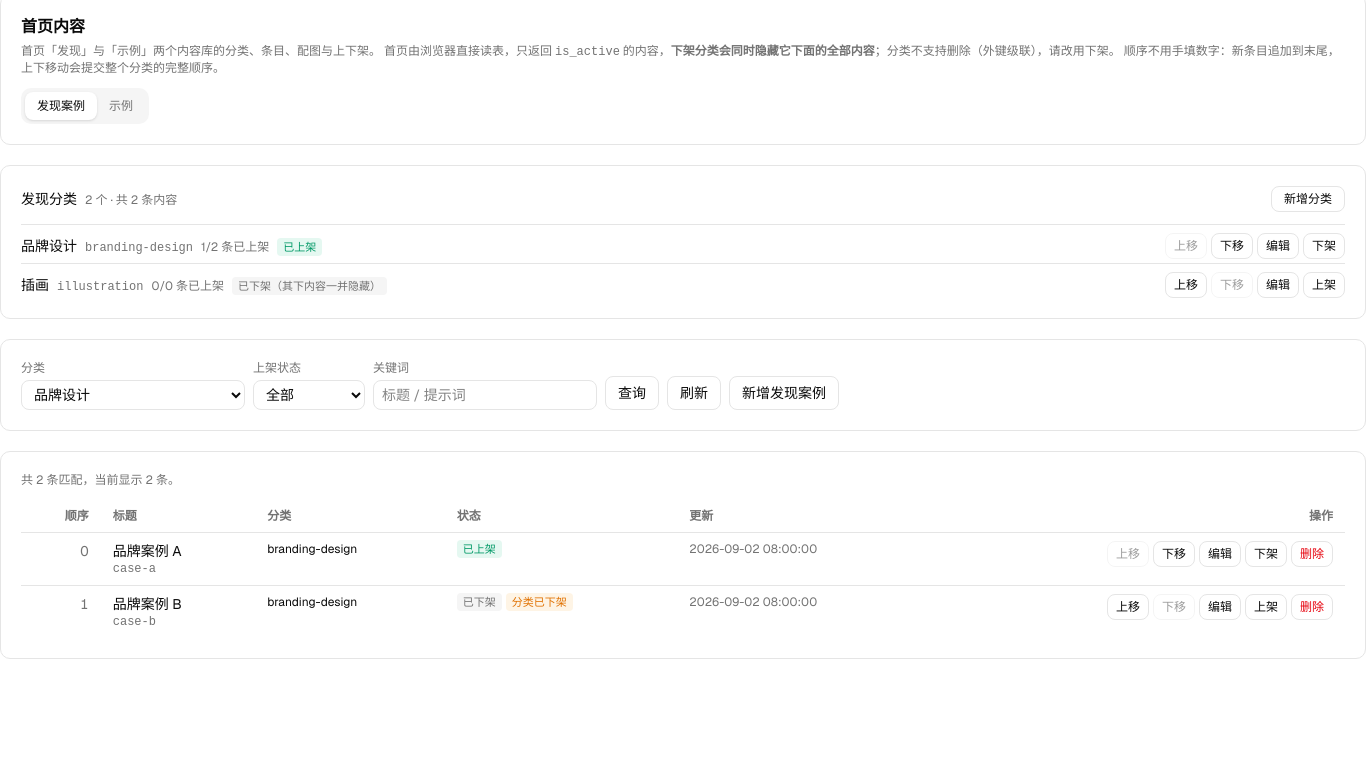
admin home content section › saves an edited case with every field and a reason
The image size is (1366, 762).
expect the table with test id "admin-home-table" is shown: met, box [21,500,1345,638]
Click the button "编辑" in the row of "品牌案例 A". click: coordinates (1220, 554)
box: [1199,541,1241,567]
(page scrolled)
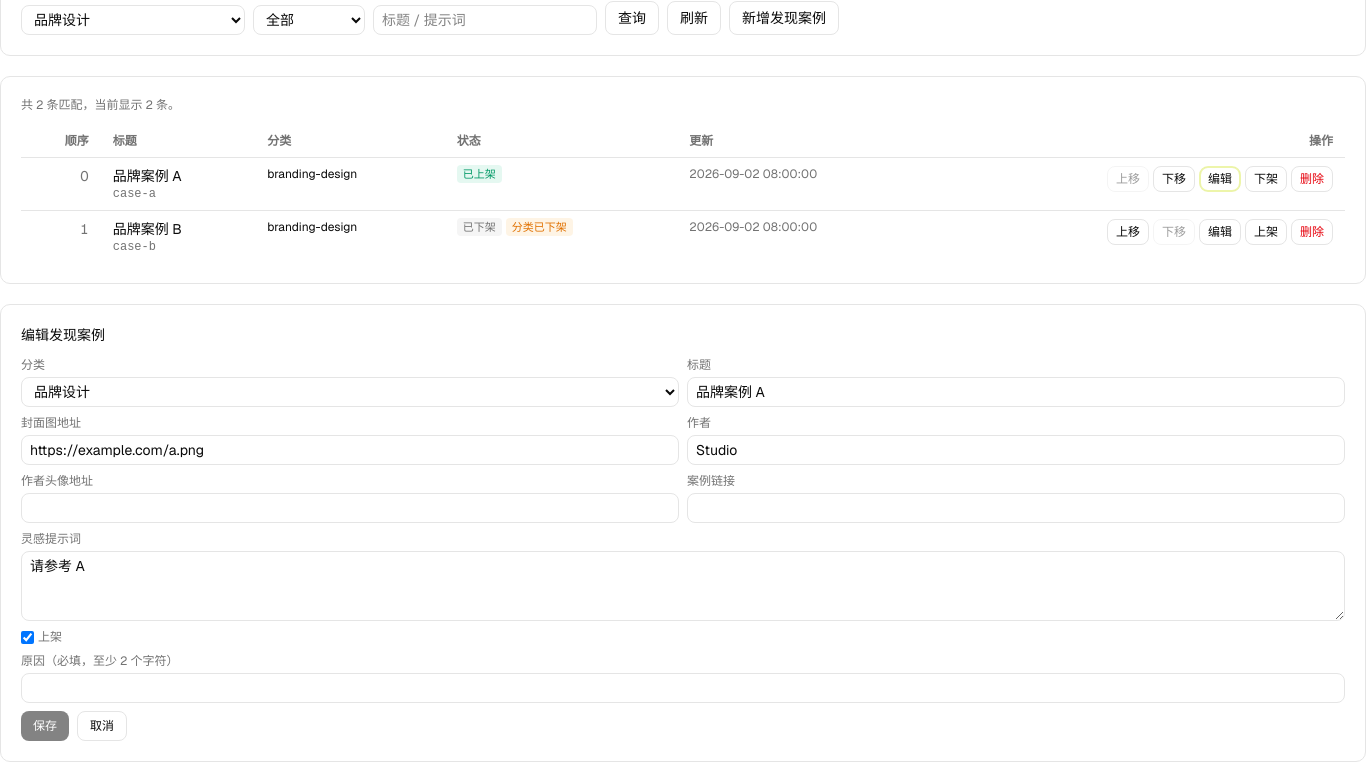
expect the field named "表单标题" holds "品牌案例 A": met
Replace the text in the field named "表单标题" with "品牌案例 A（改）". click: coordinates (1016, 392)
box: [687,377,1345,407]
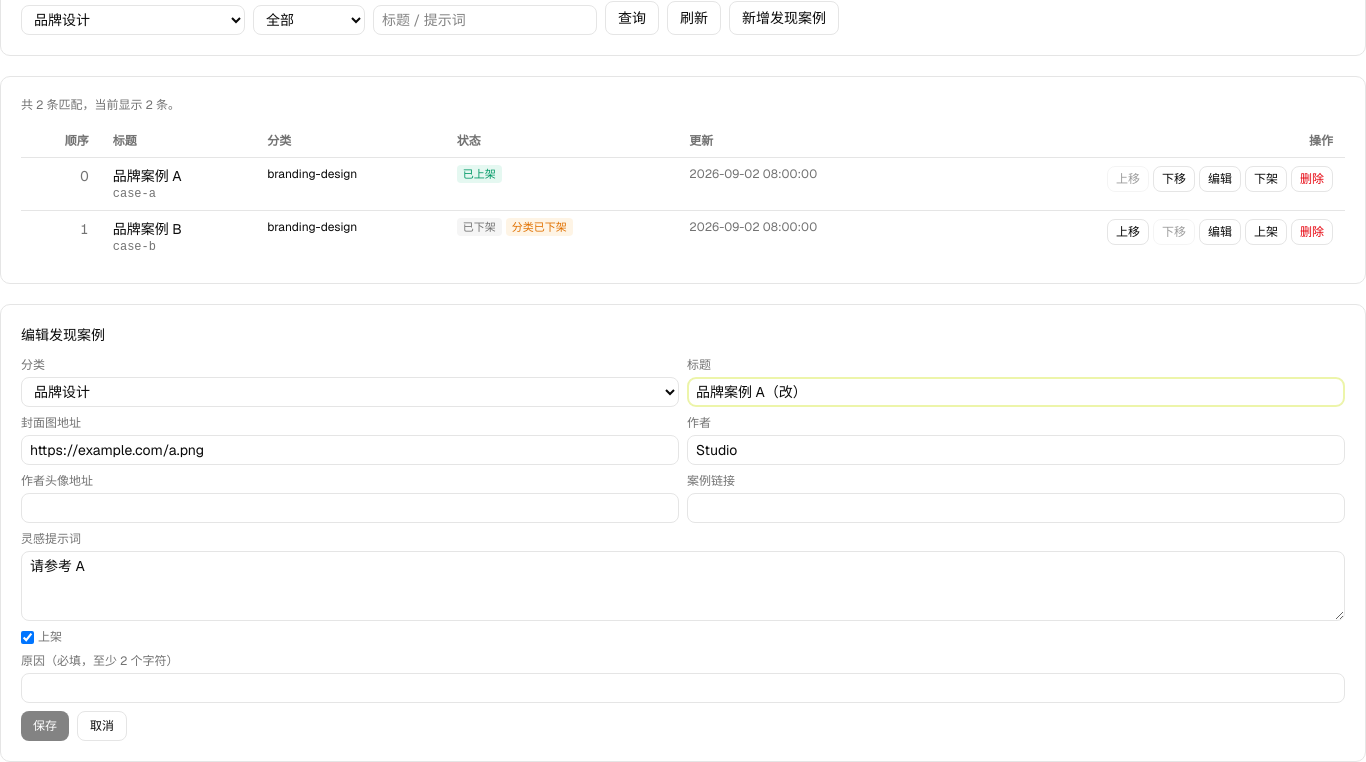
Type "标题与实际不符" into the field named "表单原因". click: coordinates (683, 688)
box: [21,673,1345,703]
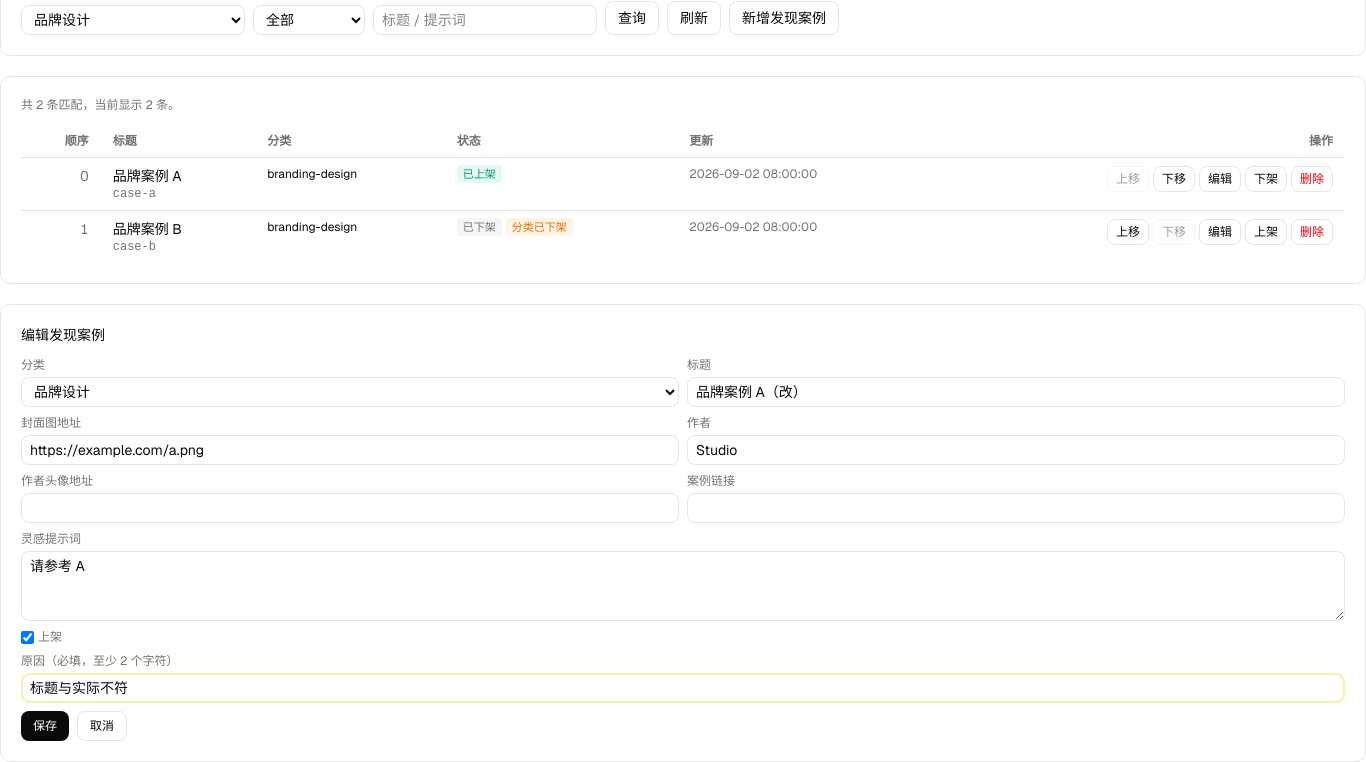
Click the button "保存". click: coordinates (45, 726)
box: [21,711,69,741]
(page scrolled)
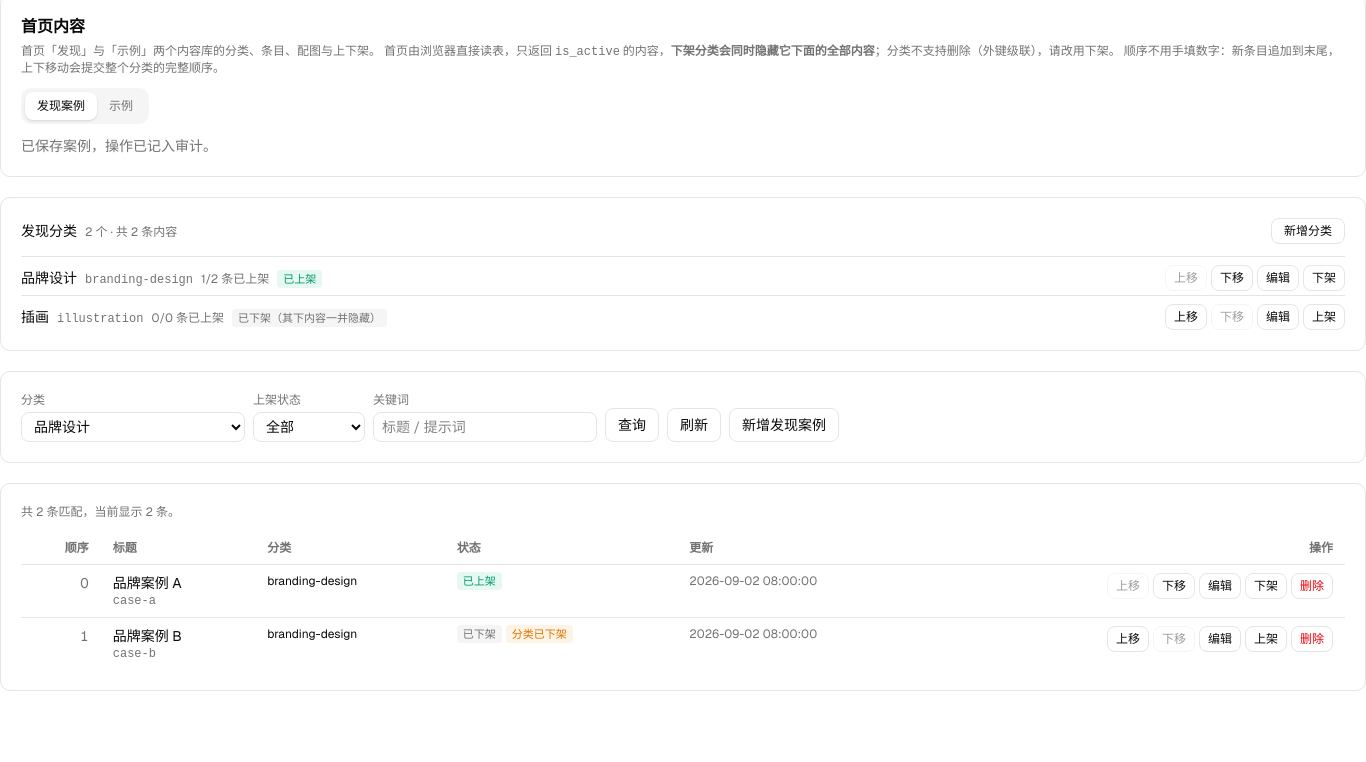
expect the text with test id "admin-home-feedback" shows "已保存案例": met, box [21,137,217,155]
